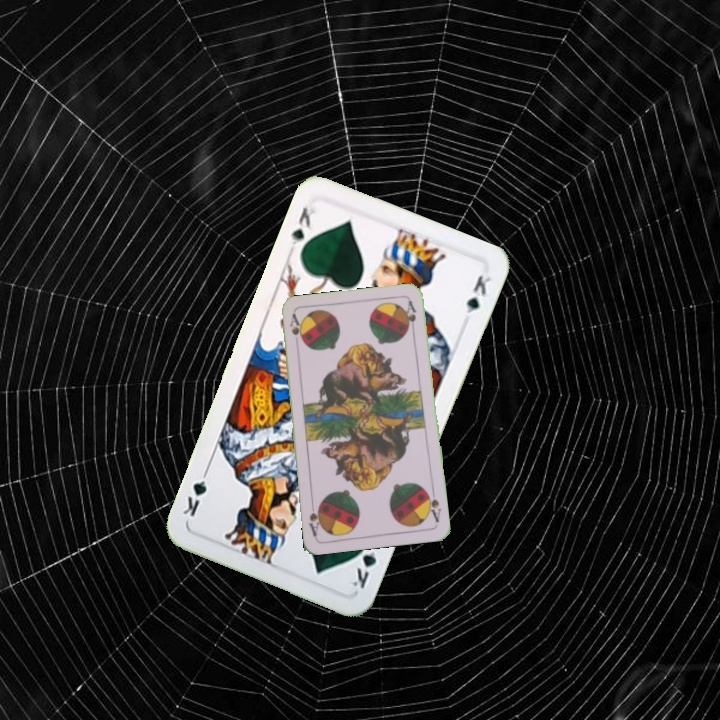GK: (346, 534, 379, 592), (287, 203, 318, 249)
SA: (422, 485, 443, 525), (286, 310, 303, 341)
